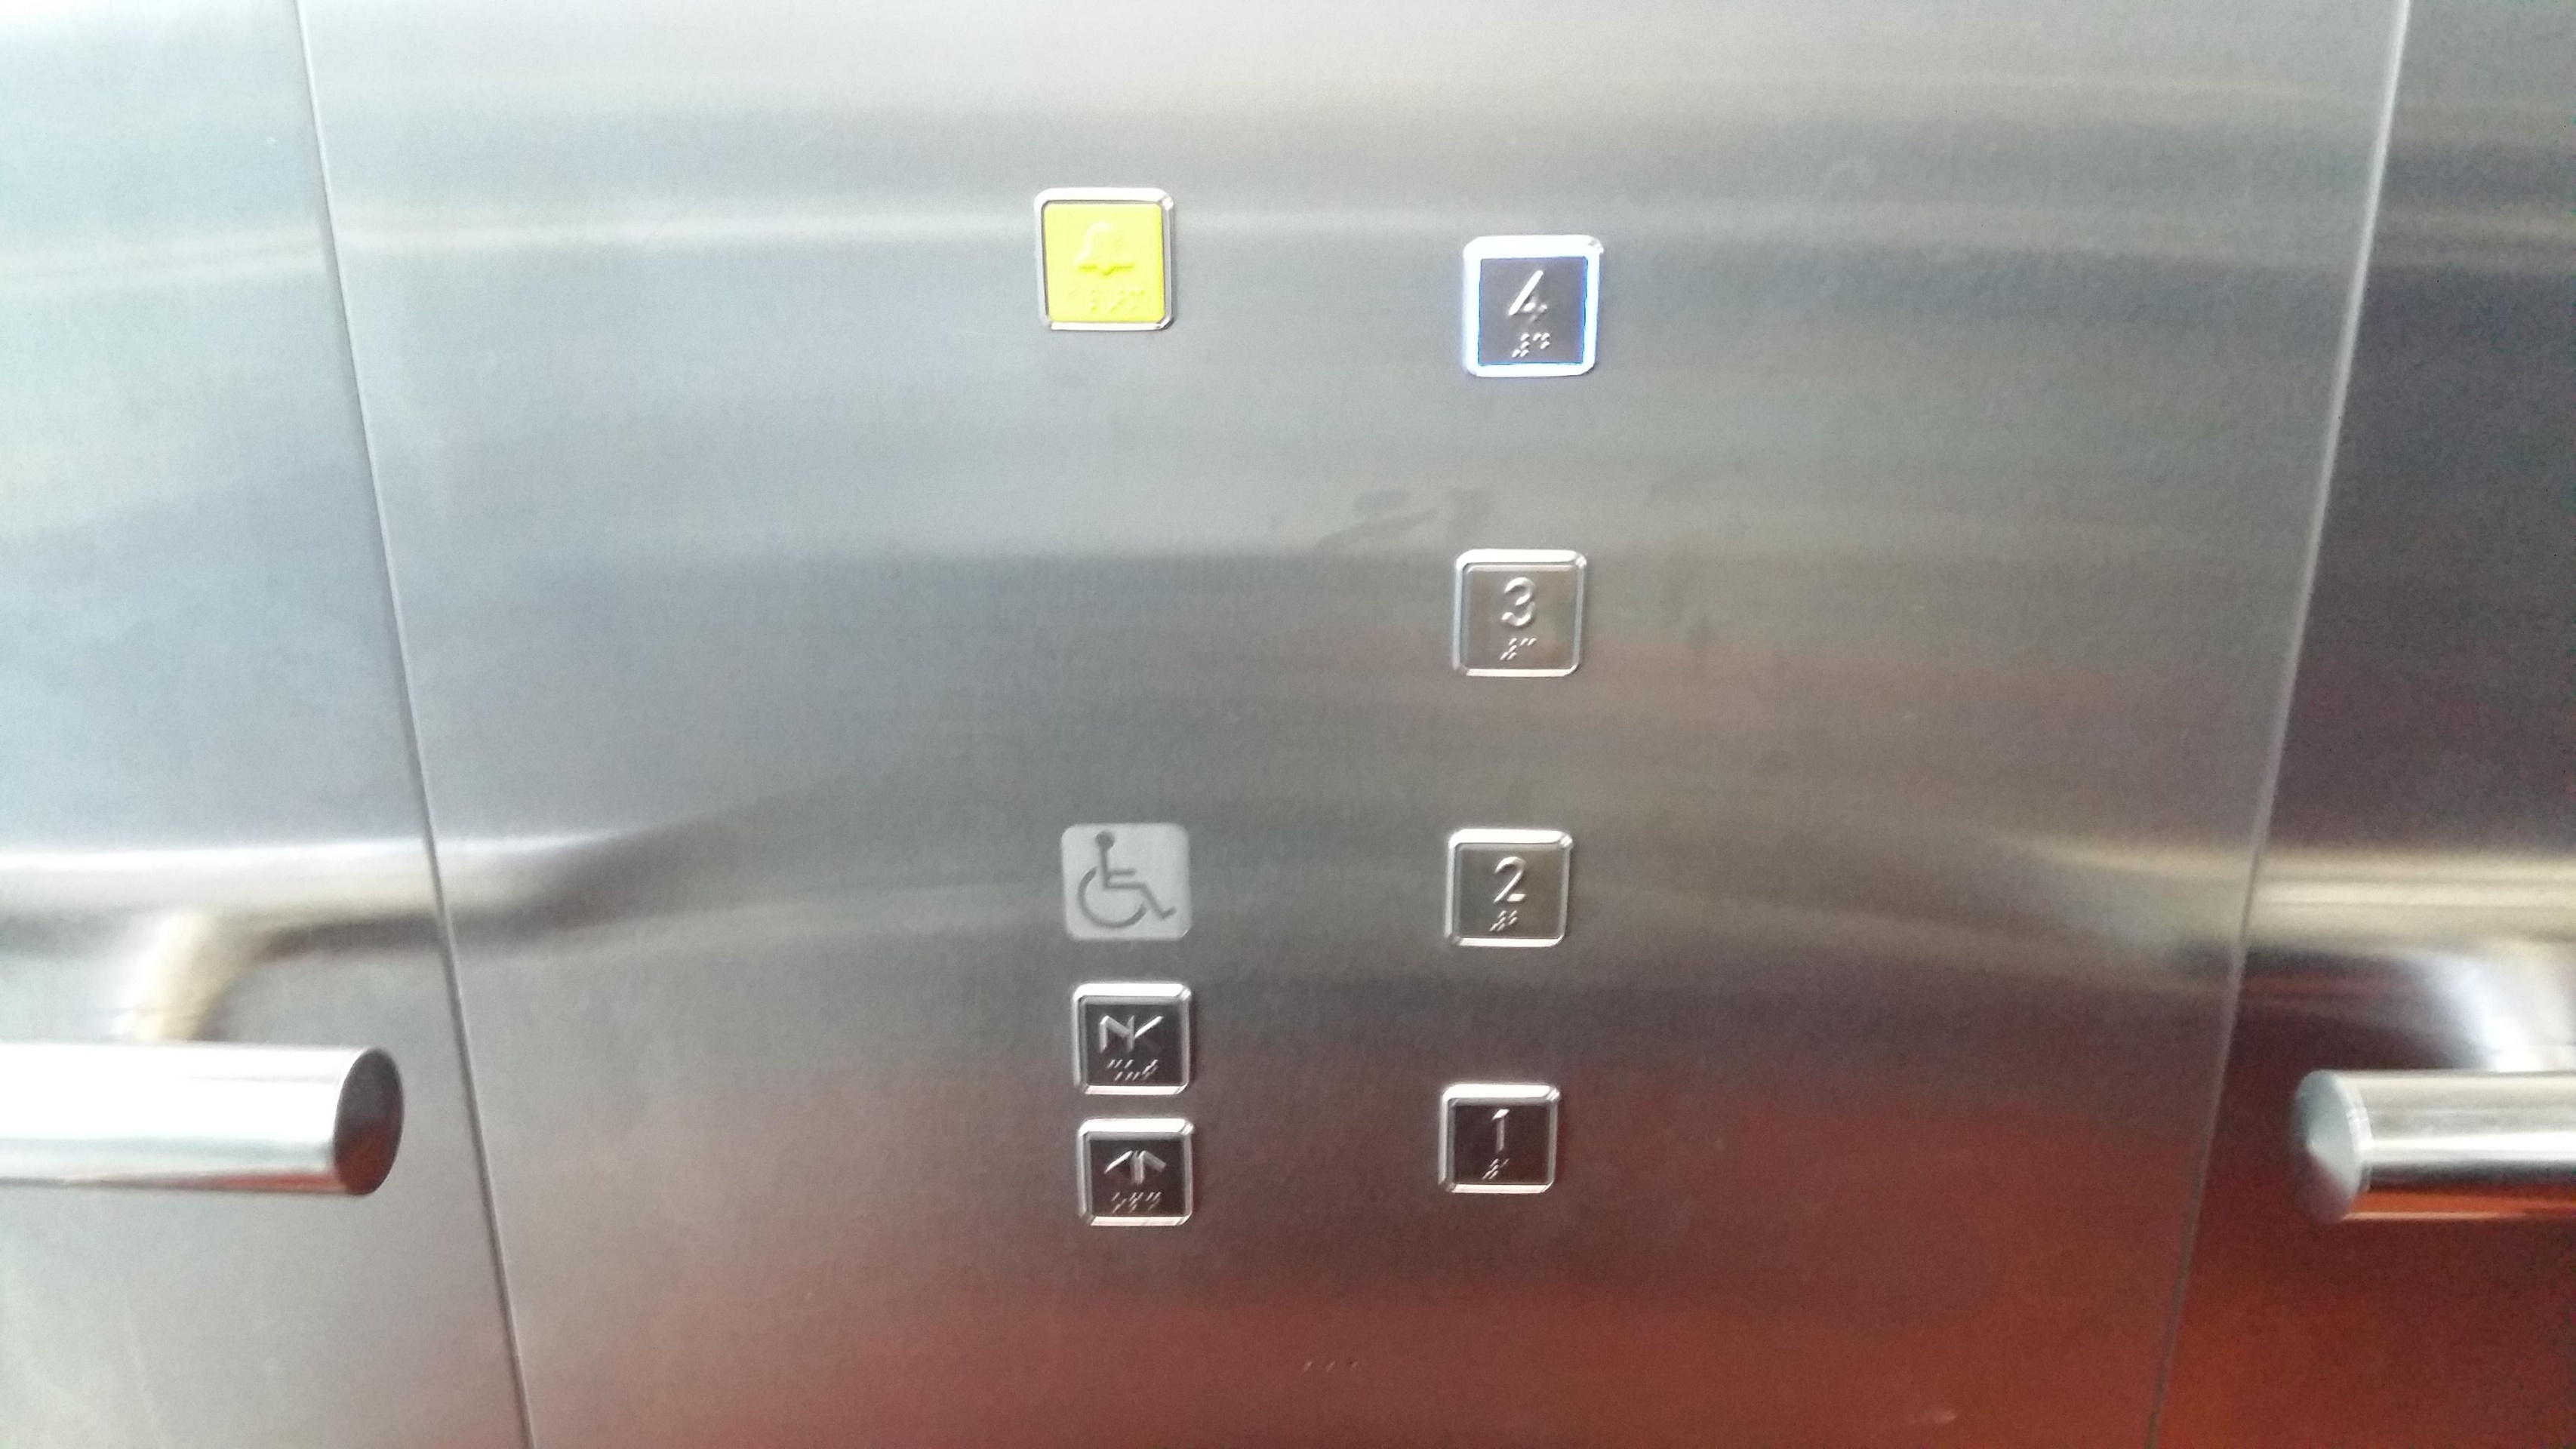1: (1435, 1079, 1562, 1203)
2: (1440, 824, 1576, 952)
3: (1449, 547, 1592, 683)
4: (1460, 232, 1603, 379)
CH: (1058, 821, 1192, 943)
alarm: (1030, 186, 1175, 334)
close: (1067, 980, 1192, 1097)
open: (1074, 1116, 1194, 1230)
